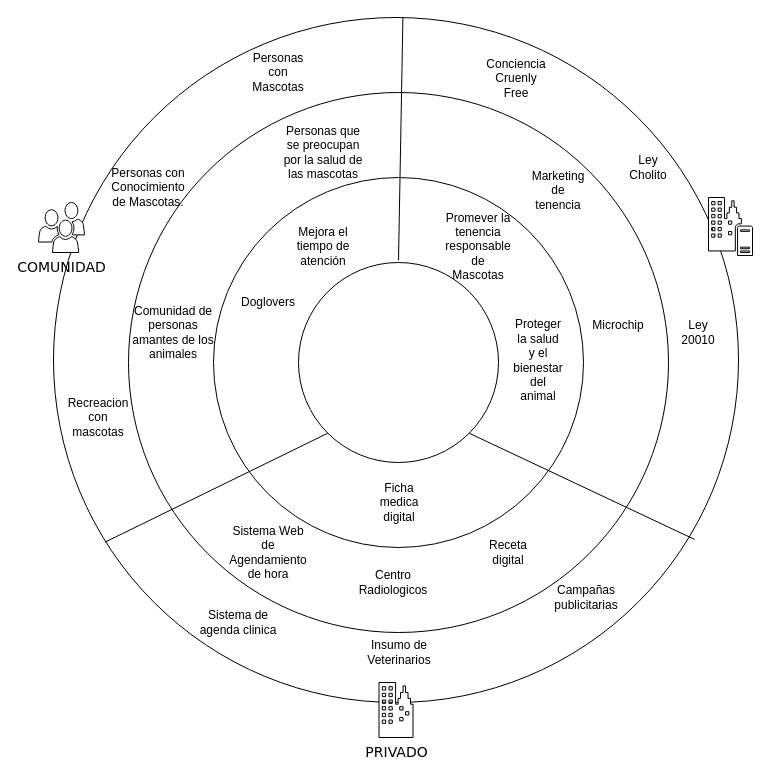
This 778x779 diagram has some shape labels left out. Each missing label, with the centre of its shape:
Mercado de Softwares para Clinicas Venterinarias: (x=398, y=362)
PUBLICO: (x=730, y=226)
